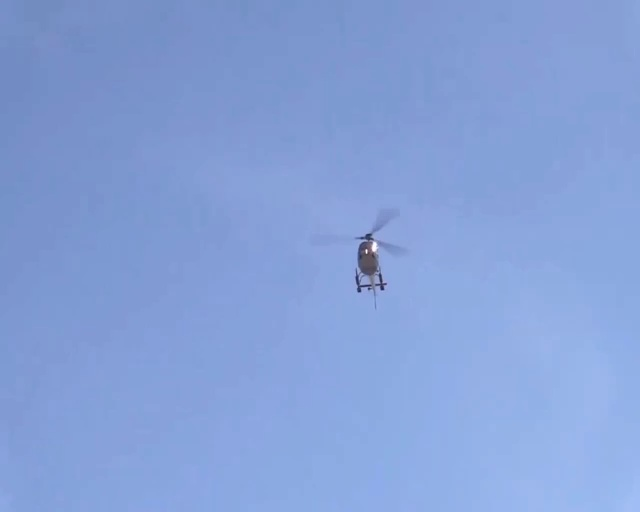HELICOPTER: (309, 207, 409, 307)
